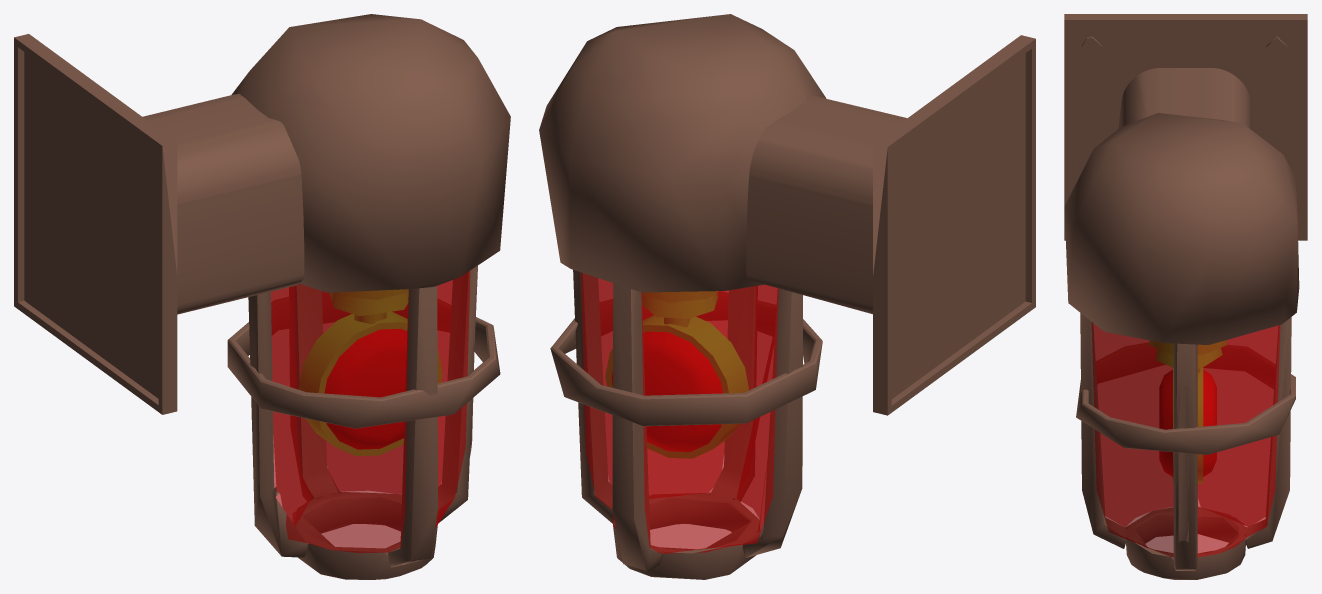
Rendered from alarm-light.gltf.
The picture shows the model from 3 angles, left to right: view 1: azimuth 30°, elevation 25°; view 2: azimuth 150°, elevation 25°; view 3: azimuth 270°, elevation 25°; orthographic projection. The views are drawn at different scales.
Visible parts, largest first — view 1: Bec-Alerta-Rosu_Metal.001_0, Bec-Alerta-Rosu_Geam_0, Bec-Alerta-Rosu_Metal_0, Bec-Alerta-Rosu_Lumina_0; view 2: Bec-Alerta-Rosu_Metal.001_0, Bec-Alerta-Rosu_Geam_0, Bec-Alerta-Rosu_Metal_0, Bec-Alerta-Rosu_Lumina_0; view 3: Bec-Alerta-Rosu_Metal.001_0, Bec-Alerta-Rosu_Geam_0, Bec-Alerta-Rosu_Lumina_0, Bec-Alerta-Rosu_Metal_0.
Boxes of the visible parts, x1=… form: Bec-Alerta-Rosu_Metal.001_0: x1=14, y1=14, x2=510, y2=579; Bec-Alerta-Rosu_Geam_0: x1=271, y1=271, x2=470, y2=553; Bec-Alerta-Rosu_Metal_0: x1=298, y1=289, x2=442, y2=455; Bec-Alerta-Rosu_Lumina_0: x1=325, y1=329, x2=406, y2=449; Bec-Alerta-Rosu_Metal.001_0: x1=539, y1=14, x2=1035, y2=579; Bec-Alerta-Rosu_Geam_0: x1=581, y1=272, x2=778, y2=553; Bec-Alerta-Rosu_Metal_0: x1=605, y1=291, x2=748, y2=458; Bec-Alerta-Rosu_Lumina_0: x1=612, y1=331, x2=722, y2=451; Bec-Alerta-Rosu_Metal.001_0: x1=1064, y1=14, x2=1307, y2=579; Bec-Alerta-Rosu_Geam_0: x1=1091, y1=322, x2=1280, y2=557; Bec-Alerta-Rosu_Lumina_0: x1=1159, y1=370, x2=1216, y2=476; Bec-Alerta-Rosu_Metal_0: x1=1149, y1=340, x2=1226, y2=482.
Size of the model in its own units: 0.3193 by 0.4 by 0.2044.
